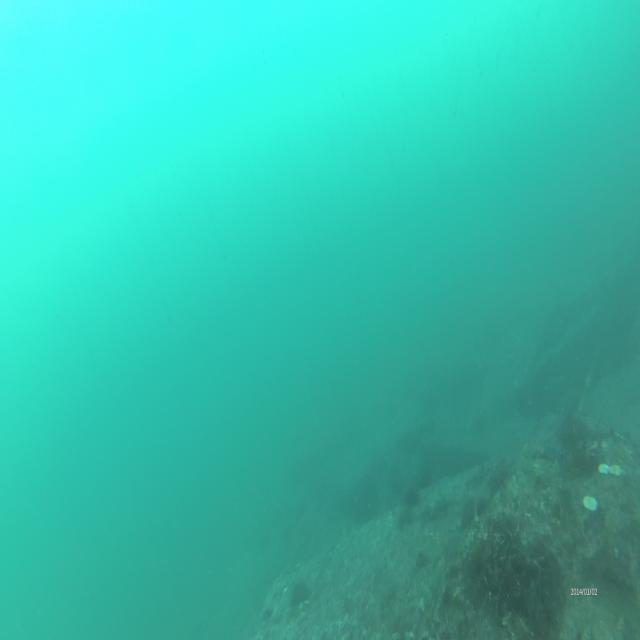echinus: (486, 454, 511, 488), (290, 584, 308, 606), (403, 486, 419, 508)
